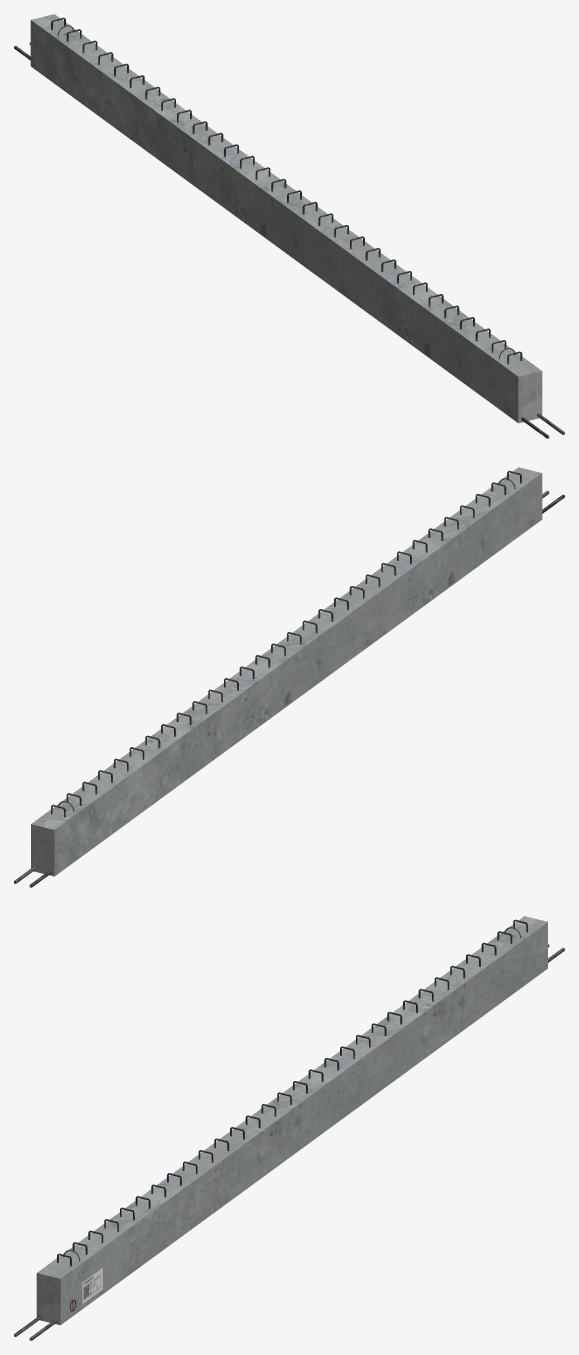
File: 叠合梁.fbx
The picture shows the model from 3 angles, top to bottom: view 1: azimuth 30°, elevation 25°; view 2: azimuth 150°, elevation 25°; view 3: azimuth 330°, elevation 25°; orthographic projection.
Visible parts, largest first — view 1: dieheliang; view 2: dieheliang; view 3: dieheliang.
Part boxes in pixels (box(x1,y1,x2,y2)): dieheliang: box(14, 14, 564, 438); dieheliang: box(14, 467, 564, 887); dieheliang: box(14, 916, 564, 1340).
Bounding box in the file's own units: 21.31 × 46.34 × 801.
